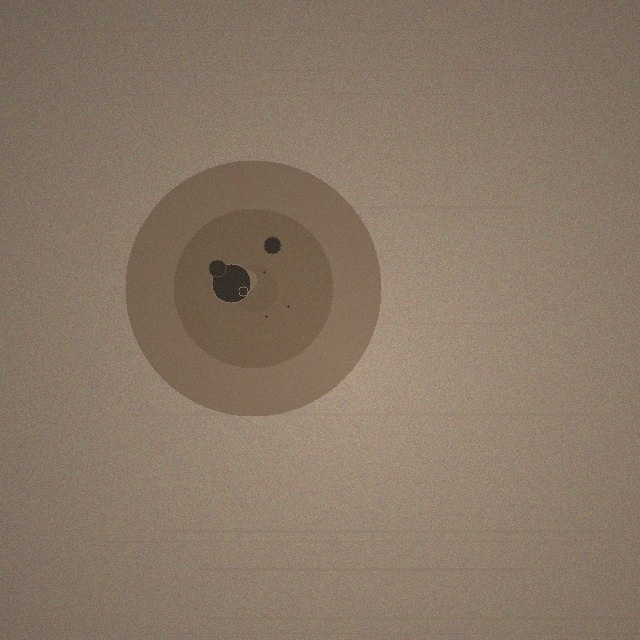shrinkage: (125, 160, 381, 416)
